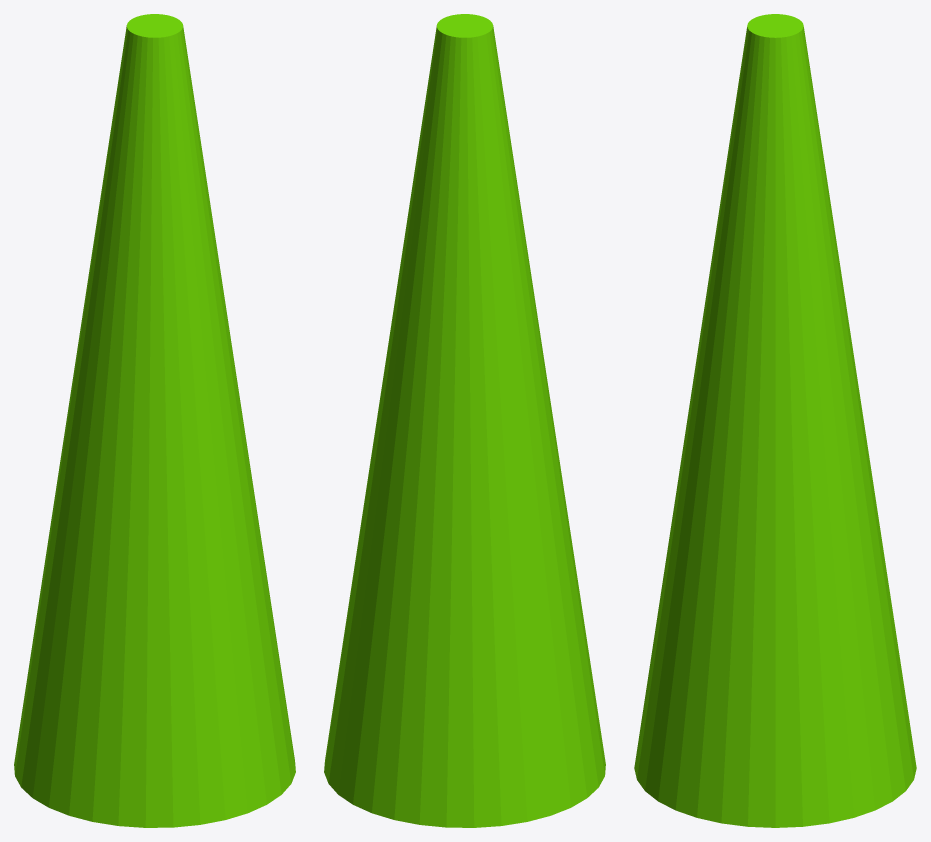
The model's file is LaserDetect.fbx.
The picture shows the model from 3 angles, left to right: view 1: azimuth 30°, elevation 25°; view 2: azimuth 150°, elevation 25°; view 3: azimuth 270°, elevation 25°; orthographic projection.
Parts seen in each view (by area): view 1: 円柱; view 2: 円柱; view 3: 円柱.
Part boxes in pixels (x1,y1,x2,y2): 円柱: (14,14,295,827); 円柱: (324,14,605,827); 円柱: (634,14,916,827).
Bounding box in the file's own units: 5 × 14.5 × 5.
